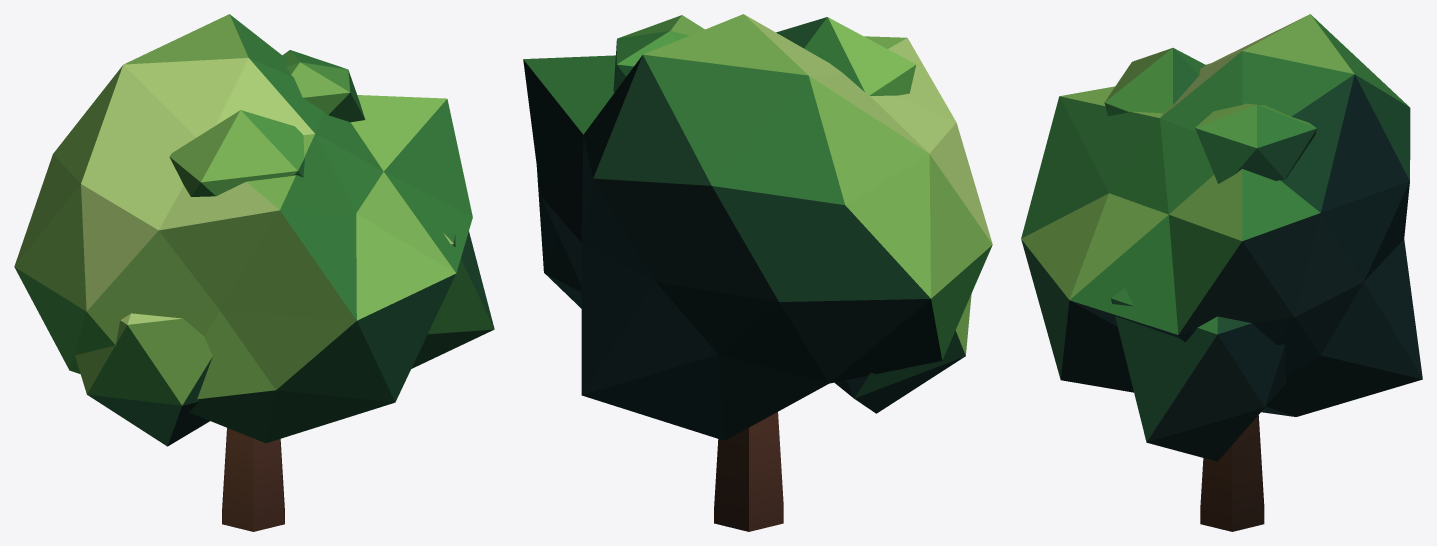
Rendered from bush.glb.
The picture shows the model from 3 angles, left to right: view 1: azimuth 30°, elevation 25°; view 2: azimuth 150°, elevation 25°; view 3: azimuth 270°, elevation 25°; orthographic projection. The views are drawn at different scales.
Parts seen in each view (by area): view 1: bush; view 2: bush; view 3: bush.
Part boxes in pixels (bbox=[...]): bush: bbox=[14, 14, 494, 531]; bush: bbox=[523, 14, 992, 531]; bush: bbox=[1021, 14, 1422, 531].
Size of the model in its own units: 0.9589 by 1.04 by 0.8136.
